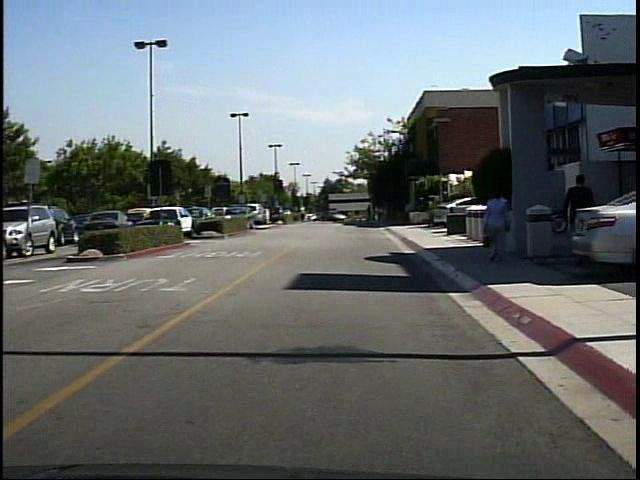person: (564, 167, 607, 271), (484, 187, 515, 267), (494, 189, 514, 264), (374, 204, 387, 229), (303, 202, 314, 228)
